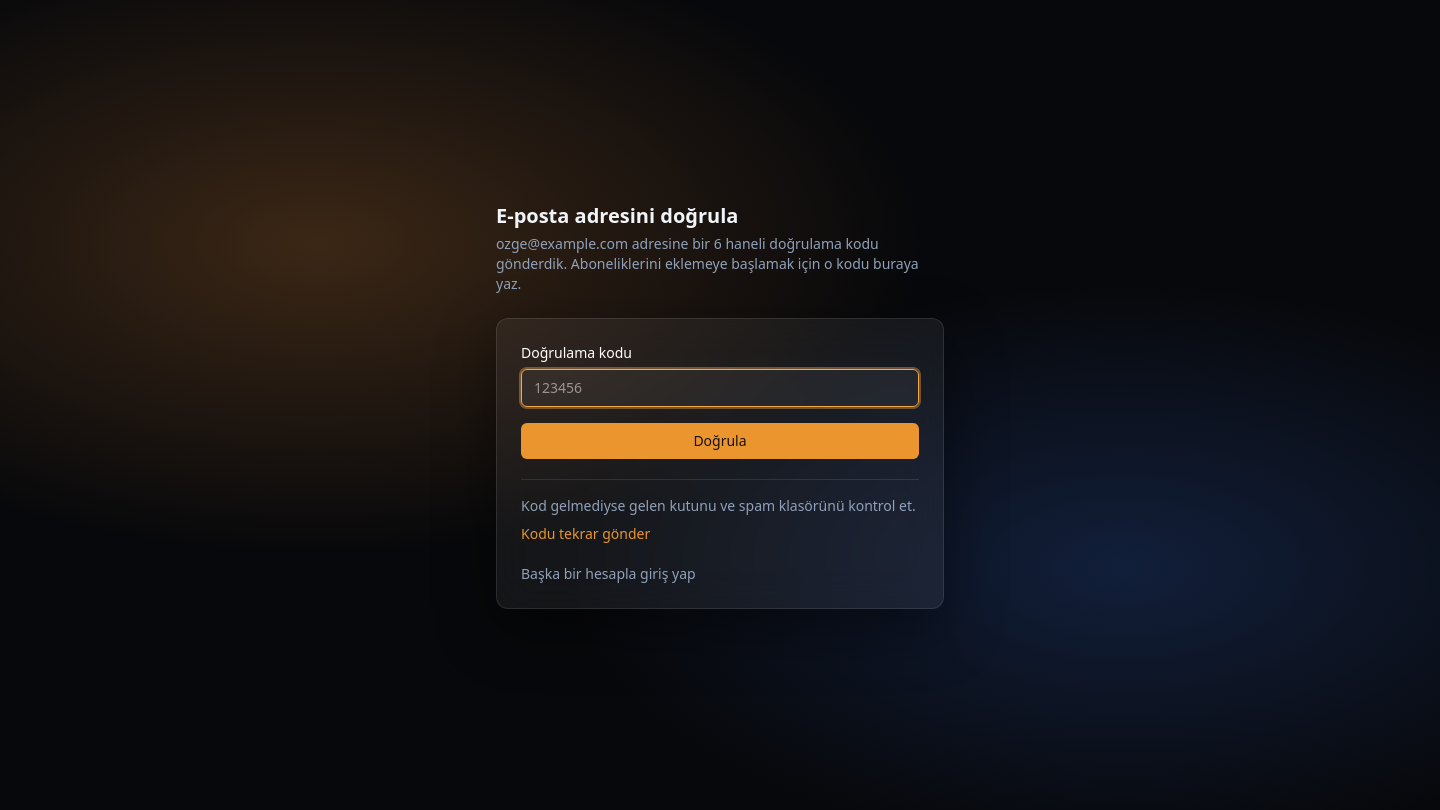
doğrulanmamış kullanıcı › geçersiz kodda sunucunun mesajını gösteriyor
The image size is (1440, 810).
Check: the heading "E-posta adresini doğrula" is shown, box [496,202,738,228]
Type "654321" into the field labelled "Doğrulama kodu".
click(720, 388); type("654321")  # box [521,368,919,406]
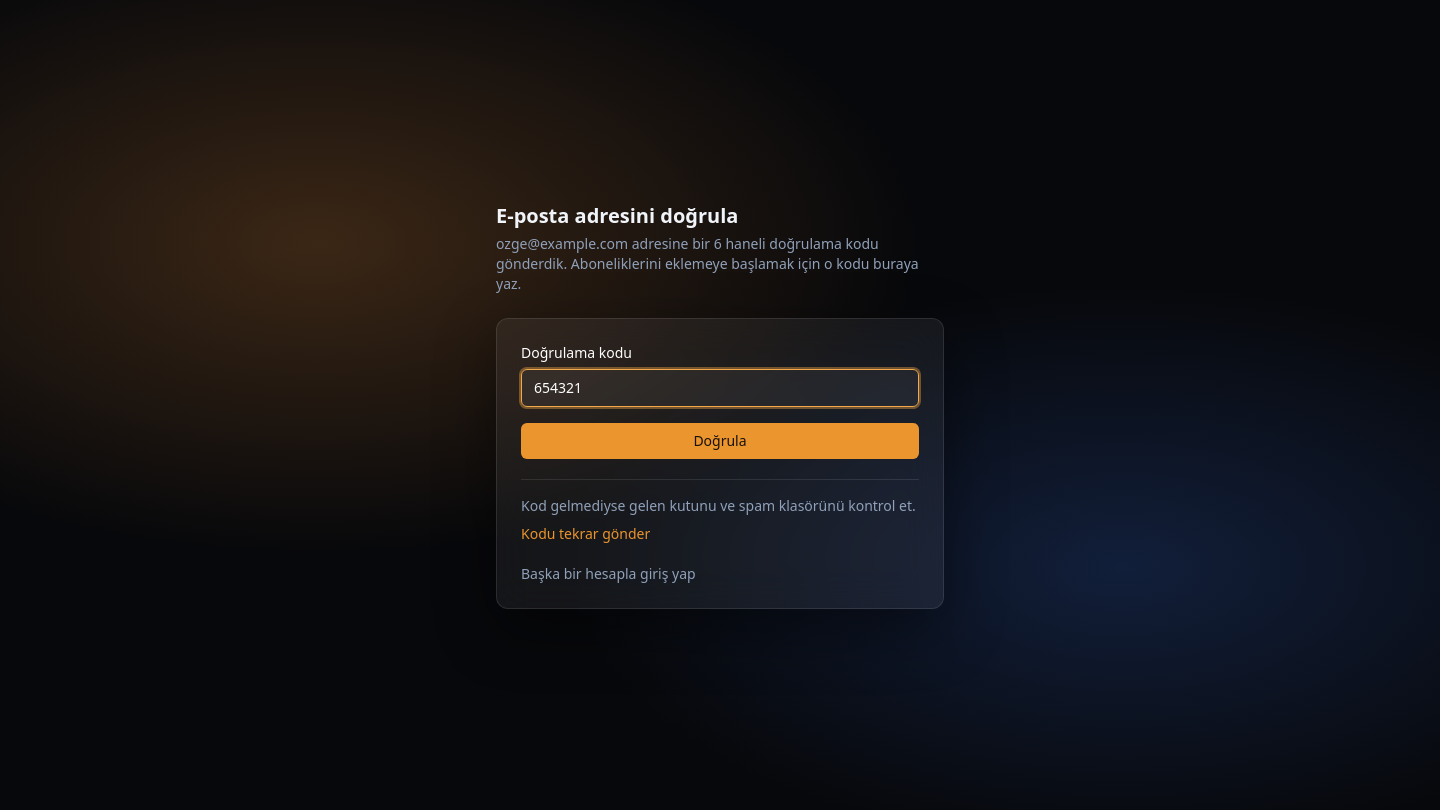
Click the button "Doğrula".
click(720, 440)  # box [521,422,919,458]
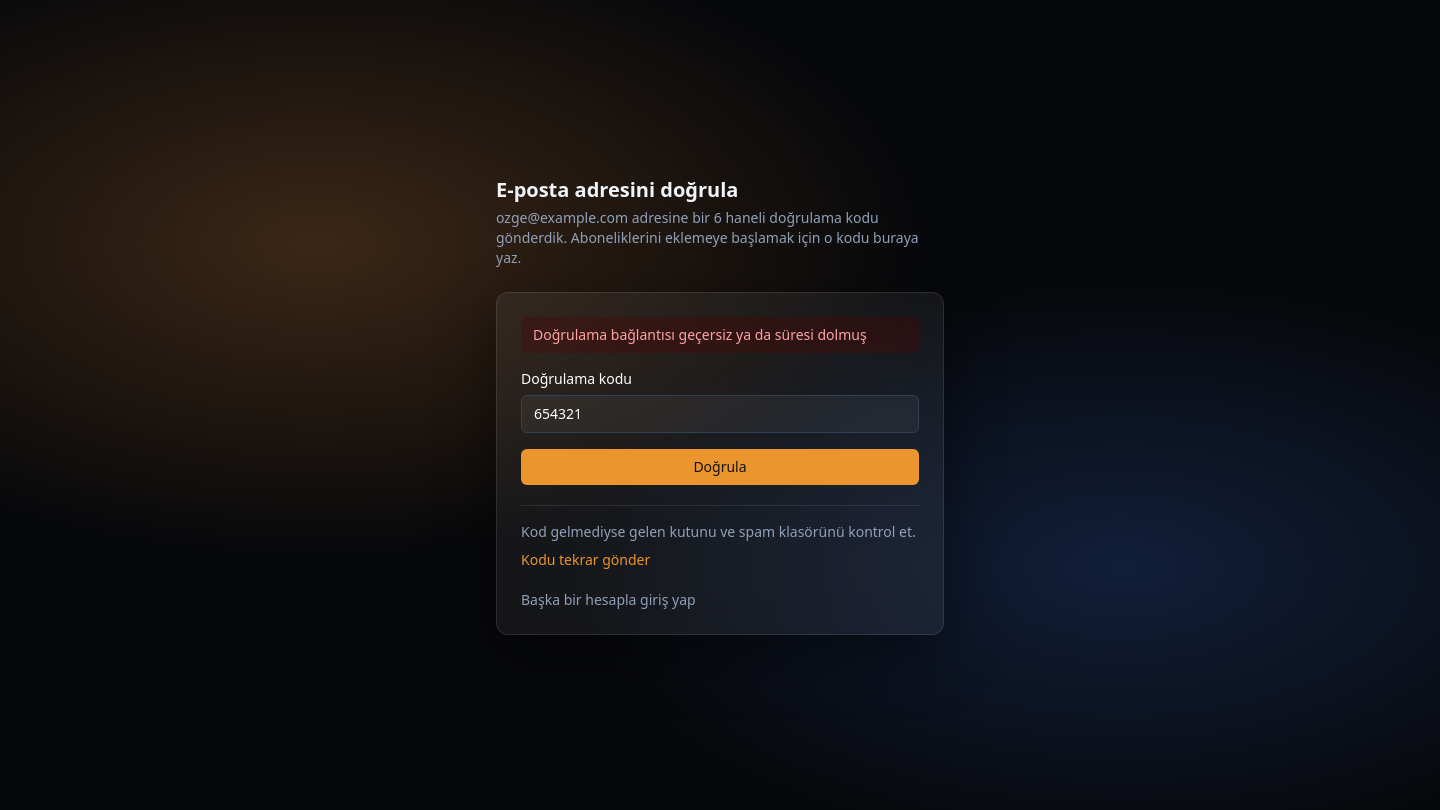
Check: the text "Doğrulama bağlantısı geçersiz ya da süresi dolmuş" is shown, box [521,316,919,352]
